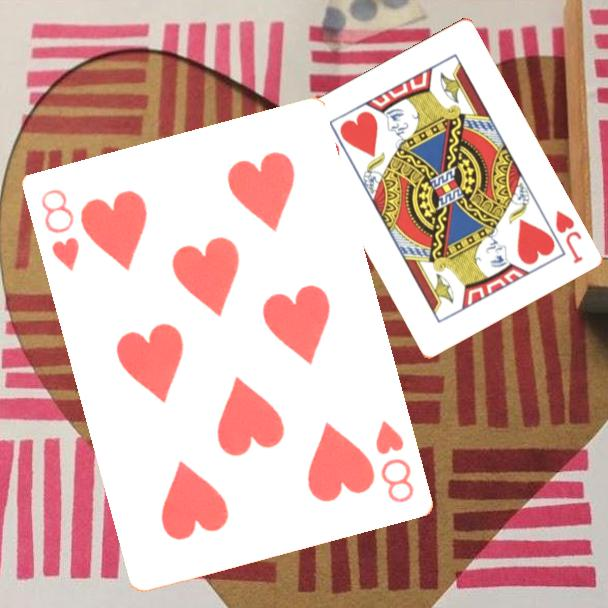h08: (371, 416, 417, 506), (37, 185, 82, 274)
h11: (551, 207, 586, 266)
